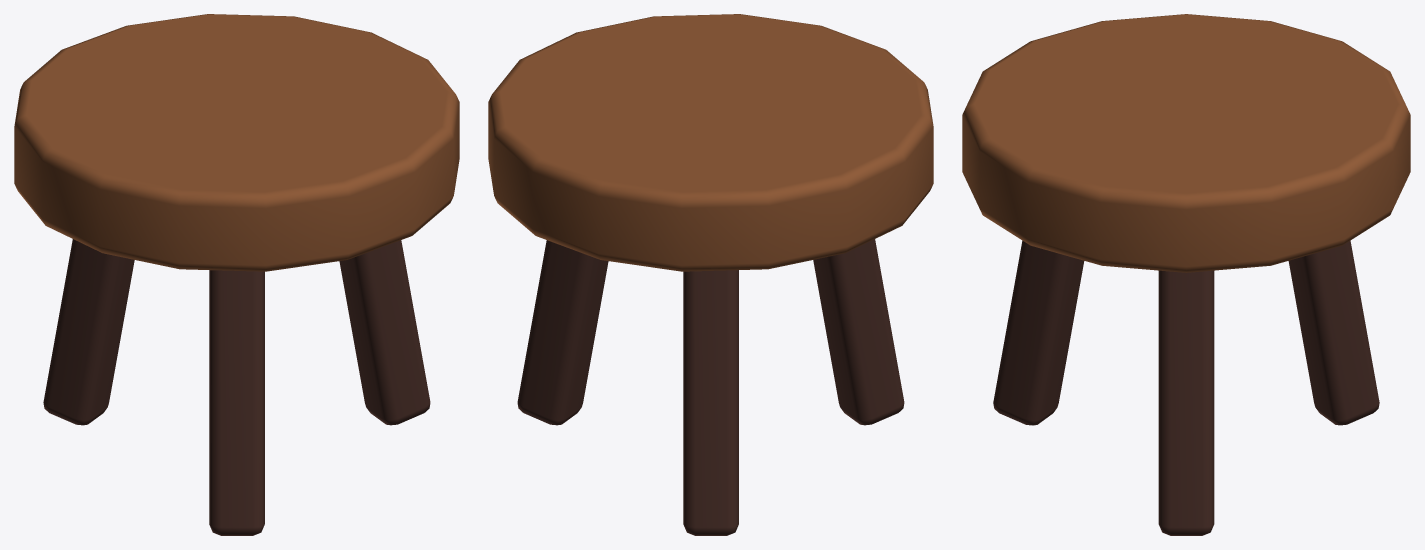
File: living-stool.glb
3 views of the same model, side by side, from view 1: azimuth 30°, elevation 25°; view 2: azimuth 150°, elevation 25°; view 3: azimuth 270°, elevation 25° (orthographic).
Parts seen in each view (by area): view 1: living_stool_pivot_Mesh; view 2: living_stool_pivot_Mesh; view 3: living_stool_pivot_Mesh.
Part boxes in pixels (x1,y1,x2,y2): living_stool_pivot_Mesh: (14,14,459,535); living_stool_pivot_Mesh: (488,14,933,535); living_stool_pivot_Mesh: (962,14,1410,535).
Size of the model in its own units: 0.67 by 0.5792 by 0.67.
